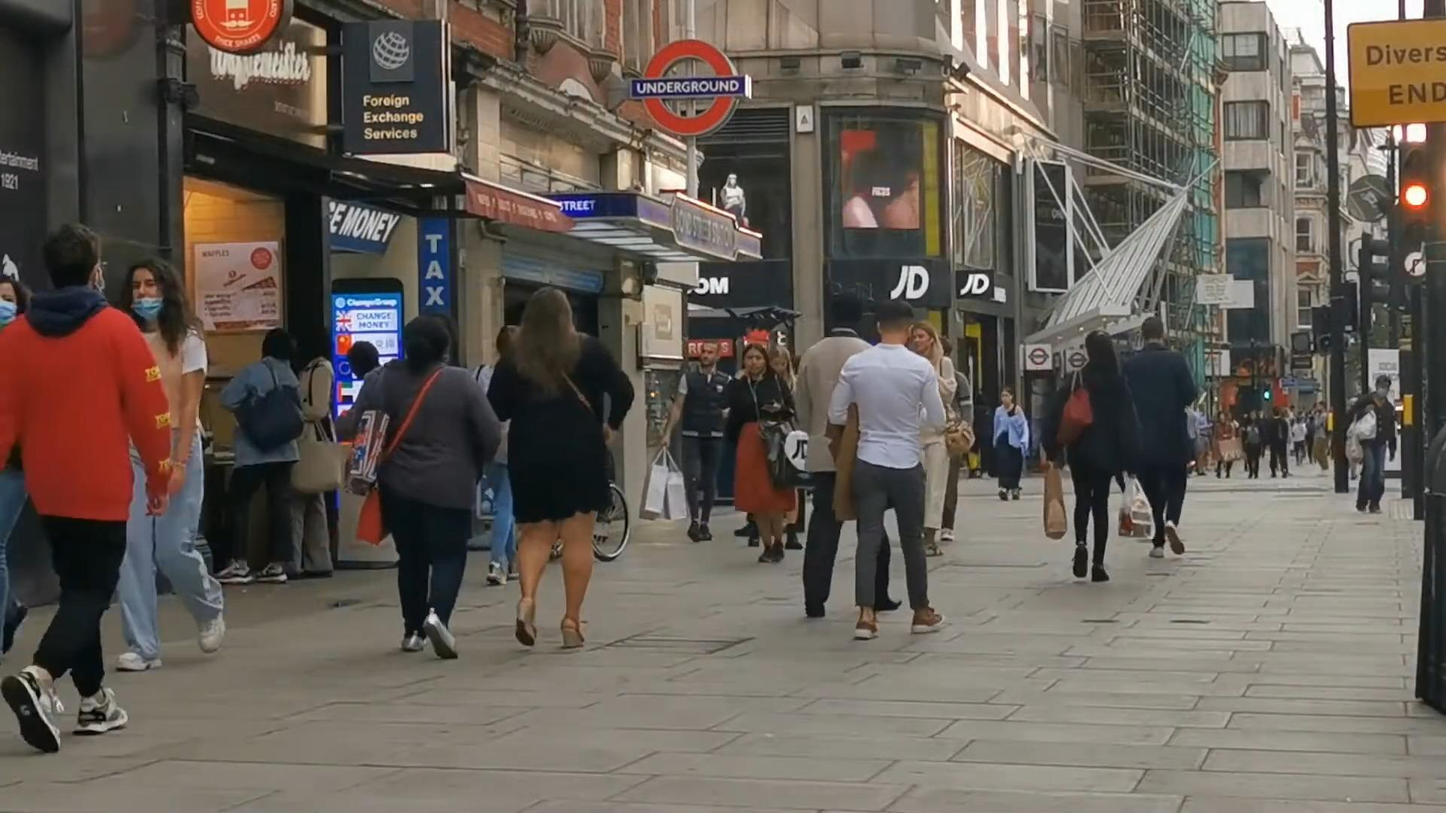no-helmet: (119, 256, 190, 325), (43, 223, 105, 293), (516, 287, 578, 344), (401, 317, 451, 372), (0, 273, 31, 329), (877, 299, 914, 344), (910, 320, 944, 357), (1086, 330, 1116, 366), (262, 327, 293, 361), (742, 343, 770, 377), (699, 340, 722, 367), (1141, 317, 1163, 341)
